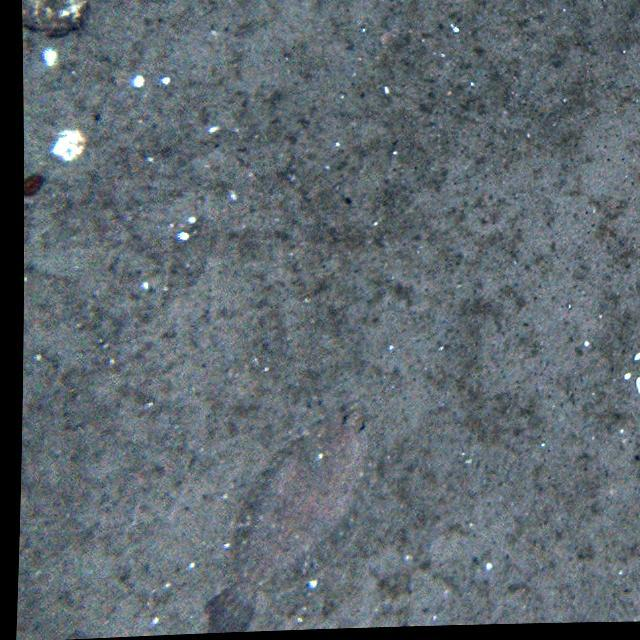flatfish: (196, 395, 376, 632)
